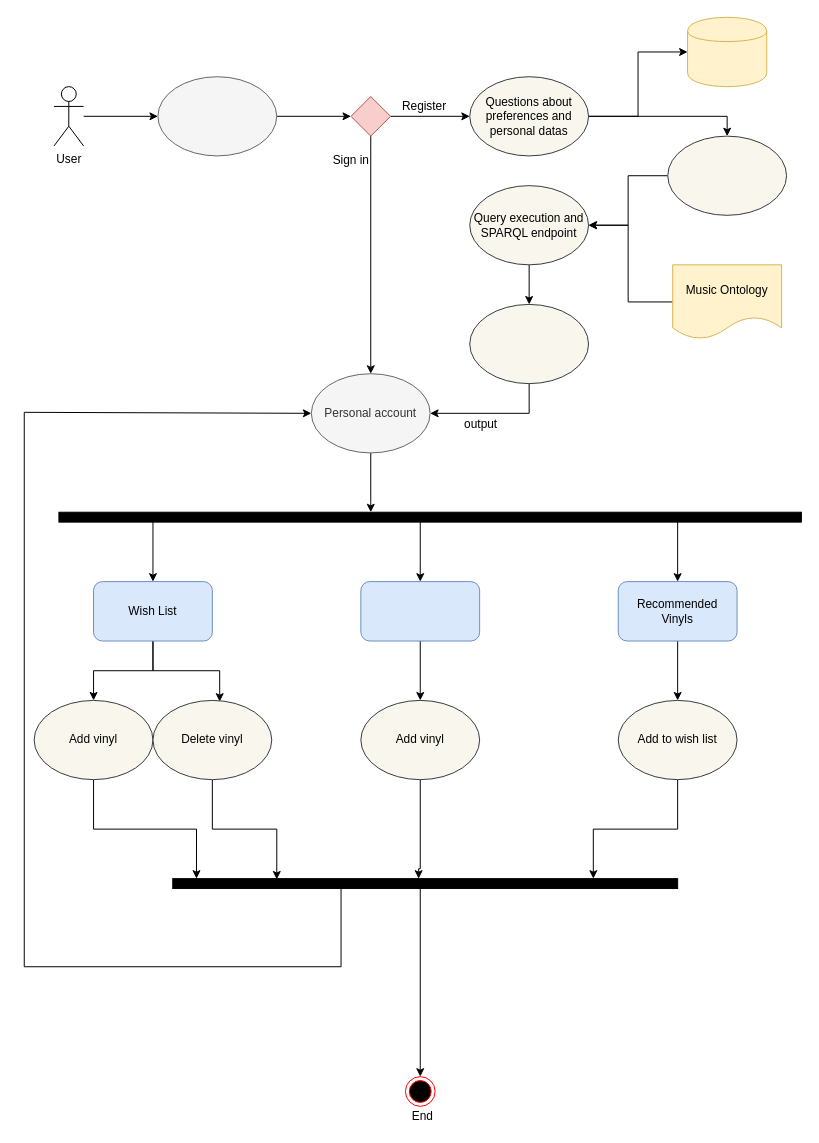
Some shapes in this 819 by 1143 pixel diagram are drawn without their labels. The shapes that lost their labels are listed below. From the top down, each one's centre as x and y in pixels, then its label:
point (727, 51): Users Database
point (217, 116): Home page
point (727, 175): SPARQL statement generation
point (529, 343): RDF dataset
point (420, 611): Library
